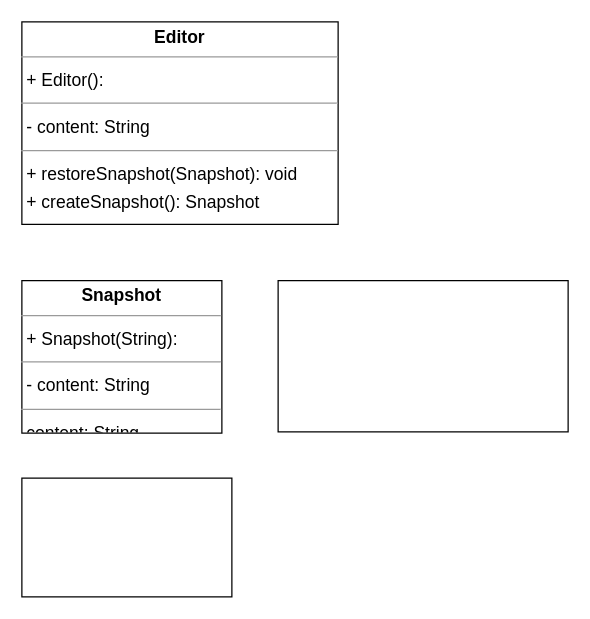
Some shapes in this 590 by 619 pixel diagram are drawn without their labels. The shapes that lost their labels are listed below. From the top down, each one's centre as x and y in pixels, then its label:
the point at 422,355: History + History(): + addSnapshot(Snapshot): void + getSnapshot(int): Snapshot
the point at 126,537: Main + Main(): + main(String[]): void
